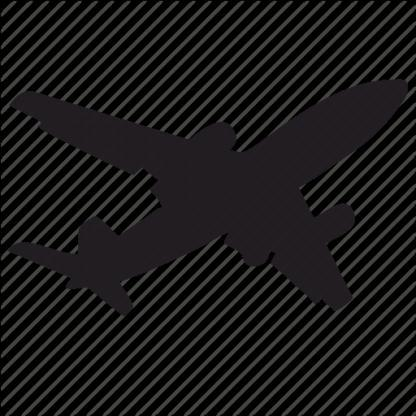CIV_Plane: (4, 65, 403, 319)
